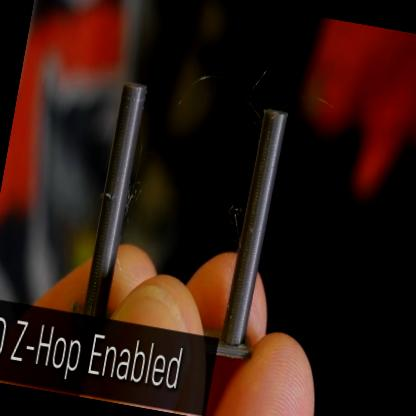fail: (168, 9, 280, 150), (120, 161, 155, 243), (213, 186, 250, 256)
